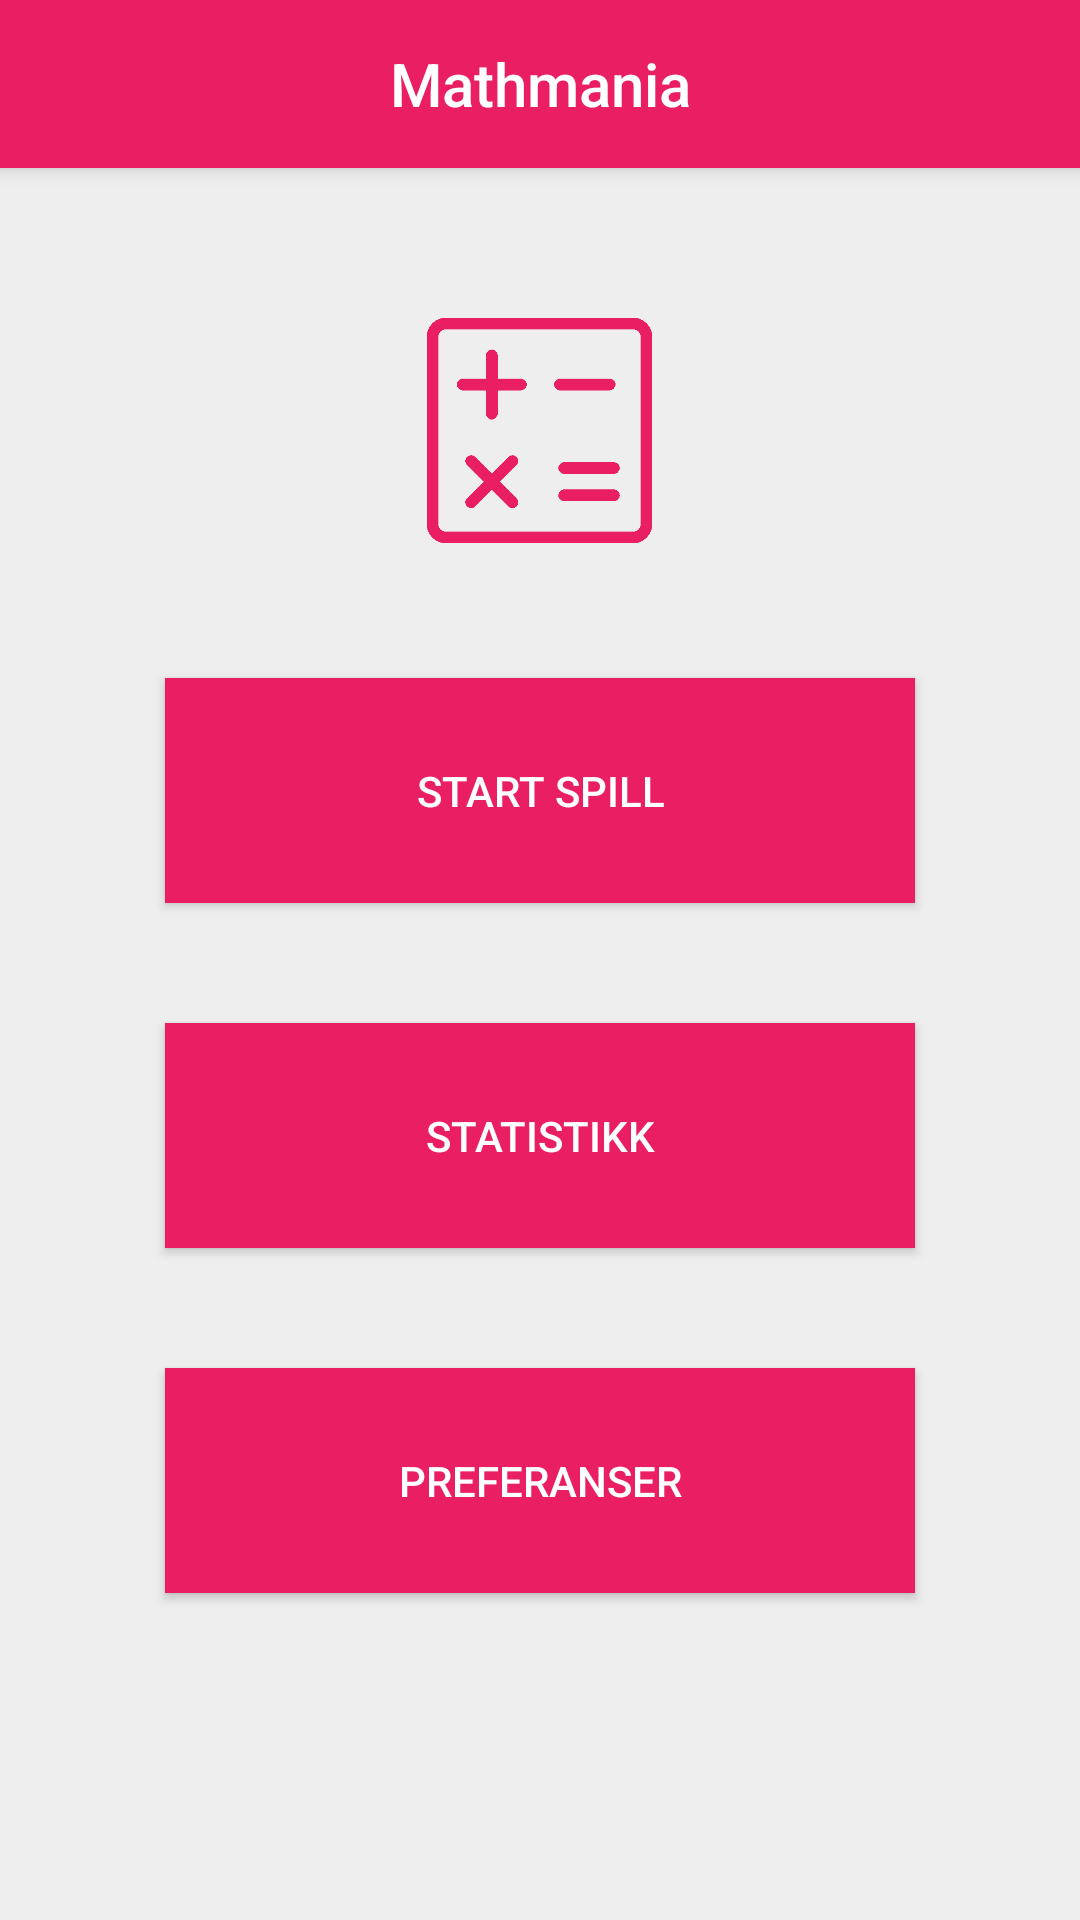

Point at icon controls on the screen. Image size 1080 x 1920, points as (x=x, y=y).
mathematics: (x=539, y=430)
